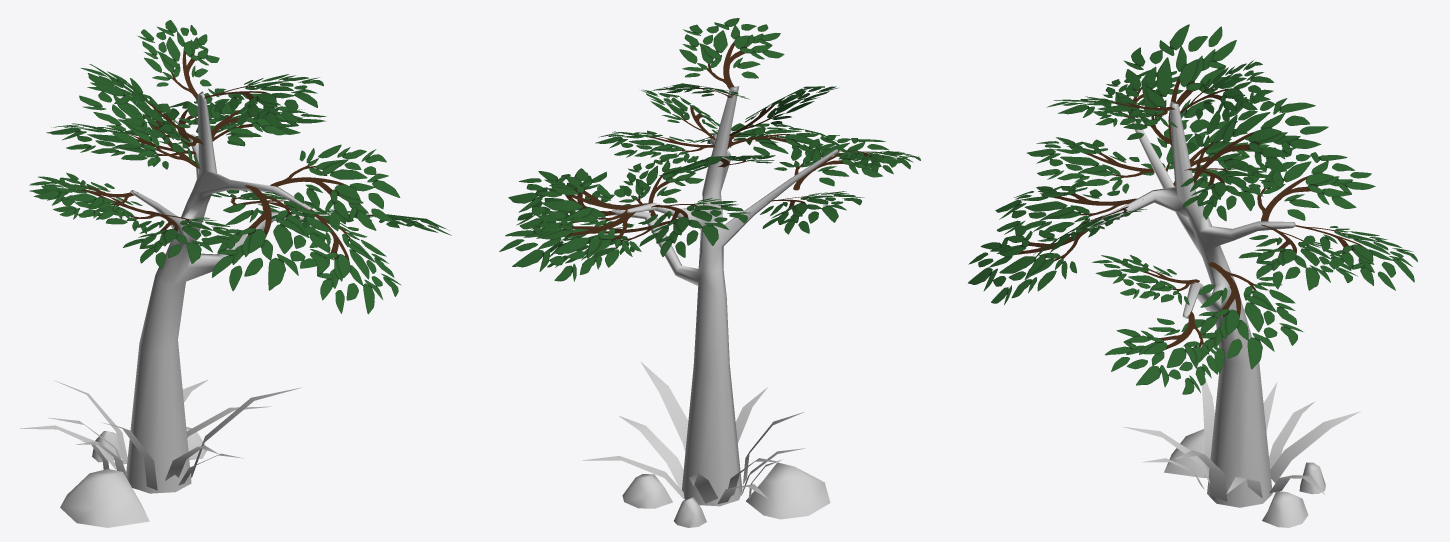
File: Tree_01.fbx
The picture shows the model from 3 angles, left to right: view 1: azimuth 30°, elevation 25°; view 2: azimuth 150°, elevation 25°; view 3: azimuth 270°, elevation 25°; orthographic projection. The views are drawn at different scales.
Parts seen in each view (by area): view 1: Tree_01; view 2: Tree_01; view 3: Tree_01.
Boxes of the visible parts, x1,y1,x2,y2 form: Tree_01: [20, 20, 451, 527]; Tree_01: [499, 18, 920, 527]; Tree_01: [968, 24, 1417, 527].
Size of the model in its own units: 172 by 170 by 170.
